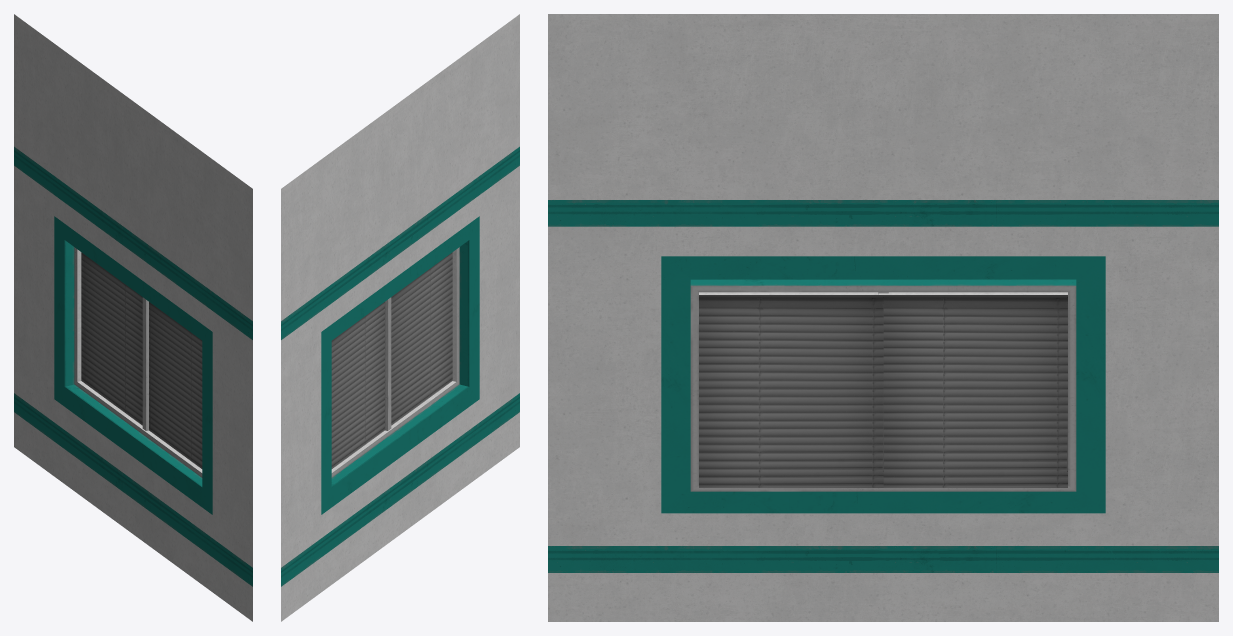
The model's file is MB_Wall_Window_A_13.fbx.
3 views of the same model, side by side, from view 1: azimuth 30°, elevation 25°; view 2: azimuth 150°, elevation 25°; view 3: azimuth 270°, elevation 25° (orthographic). The views are drawn at different scales.
Parts seen in each view (by area): view 1: MB_Wall_Window_A_13; view 2: MB_Wall_Window_A_13; view 3: MB_Wall_Window_A_13.
Boxes of the visible parts, left/top/right/bottom form: MB_Wall_Window_A_13: left=14, top=14, right=252, bottom=621; MB_Wall_Window_A_13: left=281, top=14, right=519, bottom=621; MB_Wall_Window_A_13: left=548, top=14, right=1218, bottom=621.
Bounding box in the file's own units: 13.2 × 400 × 400.
